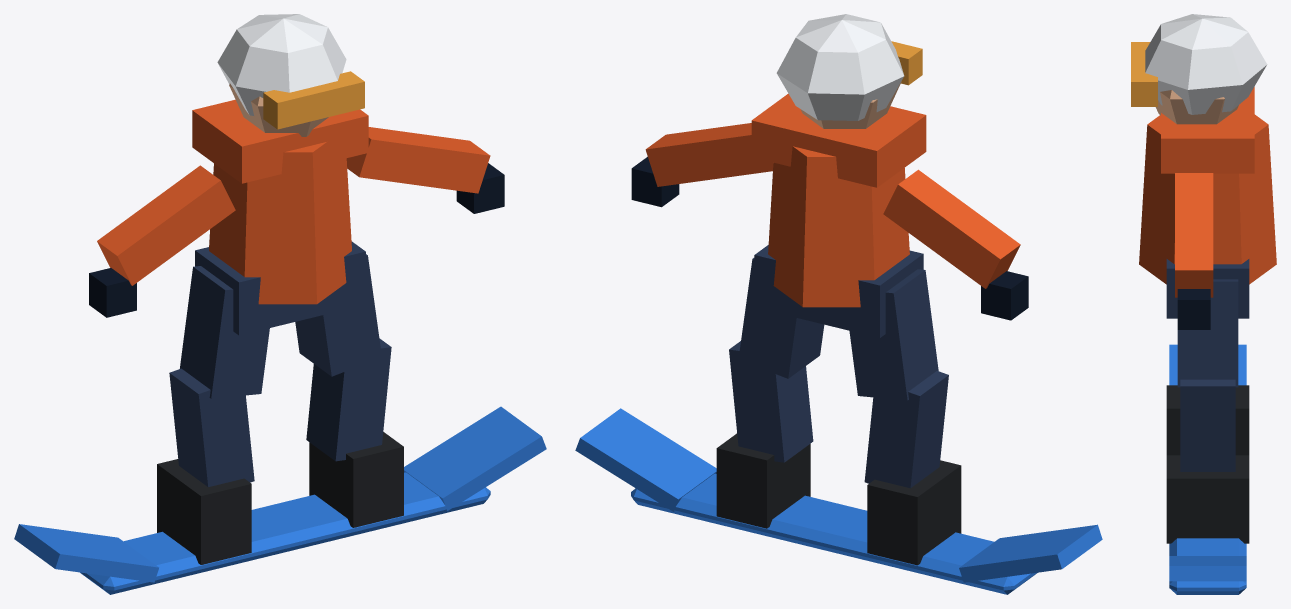
File: boarder-kid.glb
3 renders of one model, left to right at view 1: azimuth 30°, elevation 25°; view 2: azimuth 150°, elevation 25°; view 3: azimuth 270°, elevation 25°, orthographic. The views are drawn at different scales.
Visible parts, largest first — view 1: boarder-kid; view 2: boarder-kid; view 3: boarder-kid.
Part boxes in pixels (box(x1,y1,x2,y2)): boarder-kid: box(14, 14, 546, 594); boarder-kid: box(575, 14, 1102, 594); boarder-kid: box(1131, 14, 1276, 594).
Size of the model in its own units: 1.4 by 1.41 by 0.3806.
